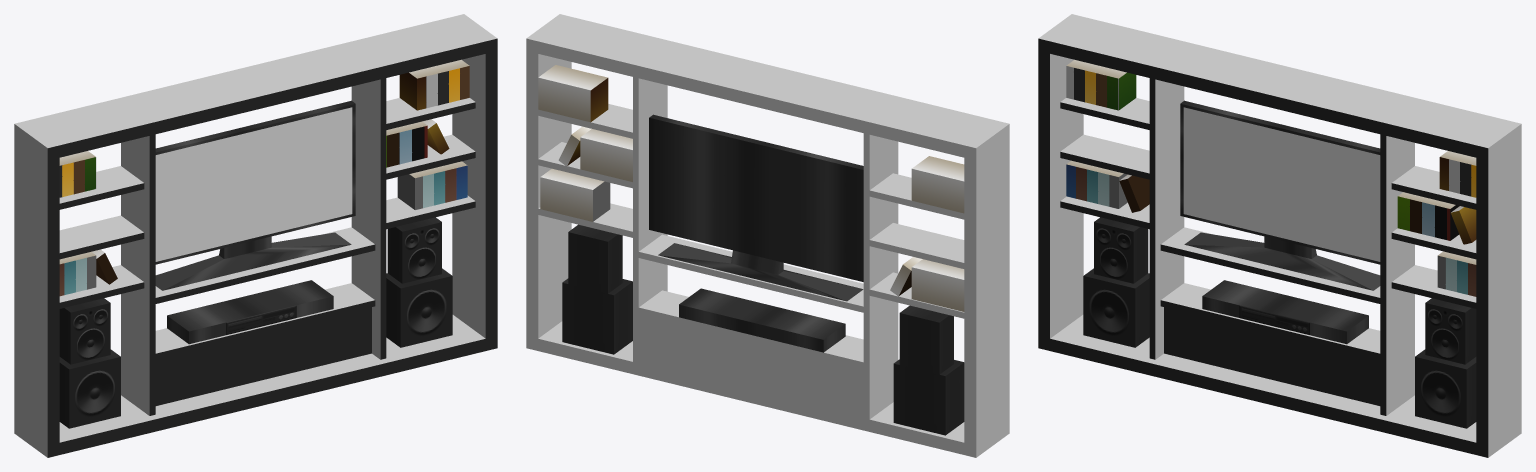
Rendered from Rack_003.fbx.
3 views of the same model, side by side, from view 1: azimuth 30°, elevation 25°; view 2: azimuth 150°, elevation 25°; view 3: azimuth 330°, elevation 25° (orthographic).
Parts seen in each view (by area): view 1: Rack_003; view 2: Rack_003; view 3: Rack_003.
Boxes of the visible parts, x1,y1,x2,y2 form: Rack_003: (14,14,497,457); Rack_003: (526,14,1009,457); Rack_003: (1038,14,1521,457).
Bounding box in the file's own units: 380 × 250 × 49.
